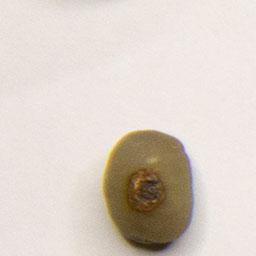peaberry: (101, 126, 198, 250)
